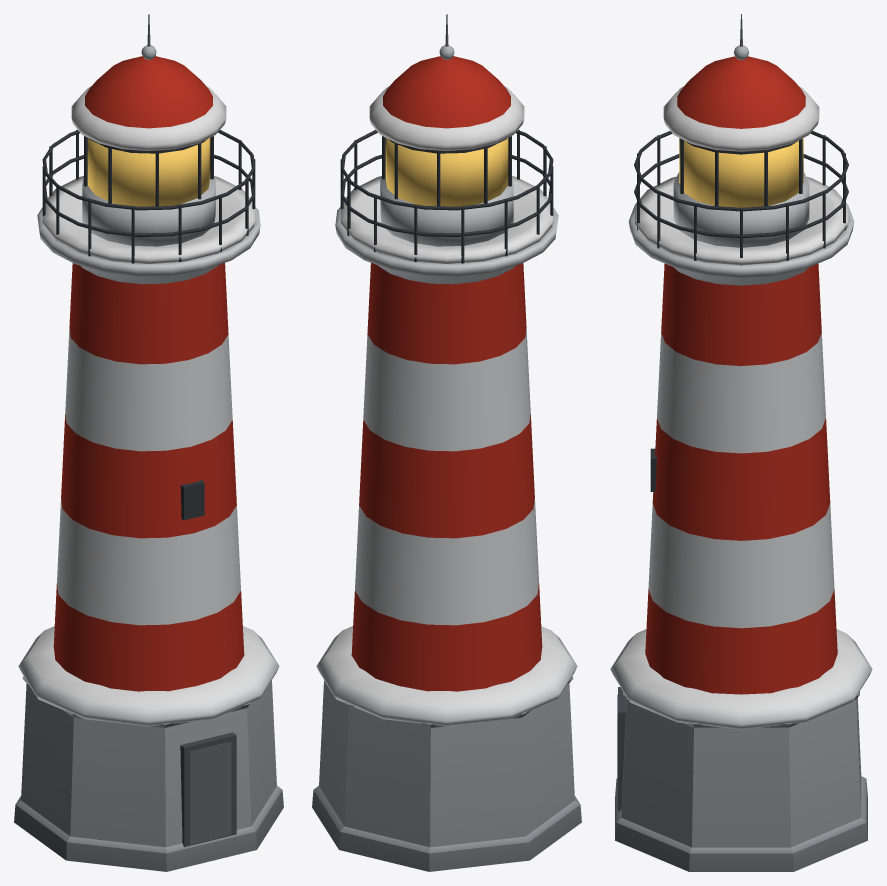
Rendered from lighthouse.glb.
The picture shows the model from 3 angles, left to right: view 1: azimuth 30°, elevation 25°; view 2: azimuth 150°, elevation 25°; view 3: azimuth 270°, elevation 25°; orthographic projection.
Visible parts, largest first — view 1: lighthouse; view 2: lighthouse; view 3: lighthouse.
Boxes of the visible parts, left/top/right/bottom form: lighthouse: left=14, top=14, right=283, bottom=871; lighthouse: left=312, top=14, right=581, bottom=871; lighthouse: left=610, top=14, right=872, bottom=871.
Size of the model in its own units: 3.72 by 12.59 by 3.72.
